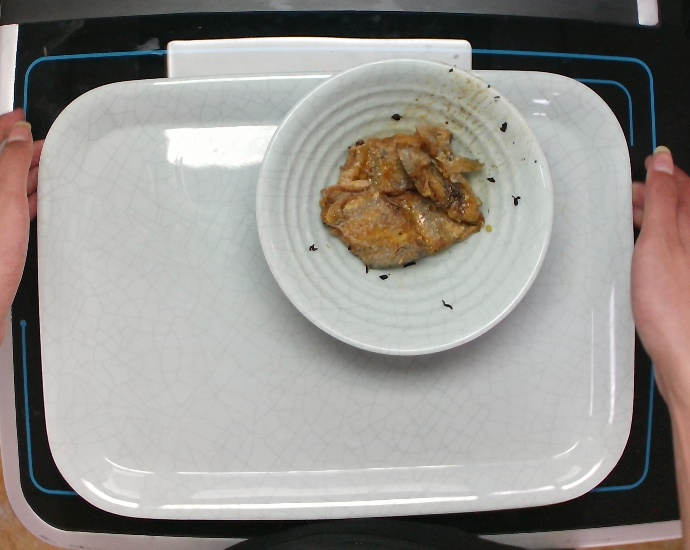JYsf-Xiao_Tang_Wan: (253, 55, 556, 357)
